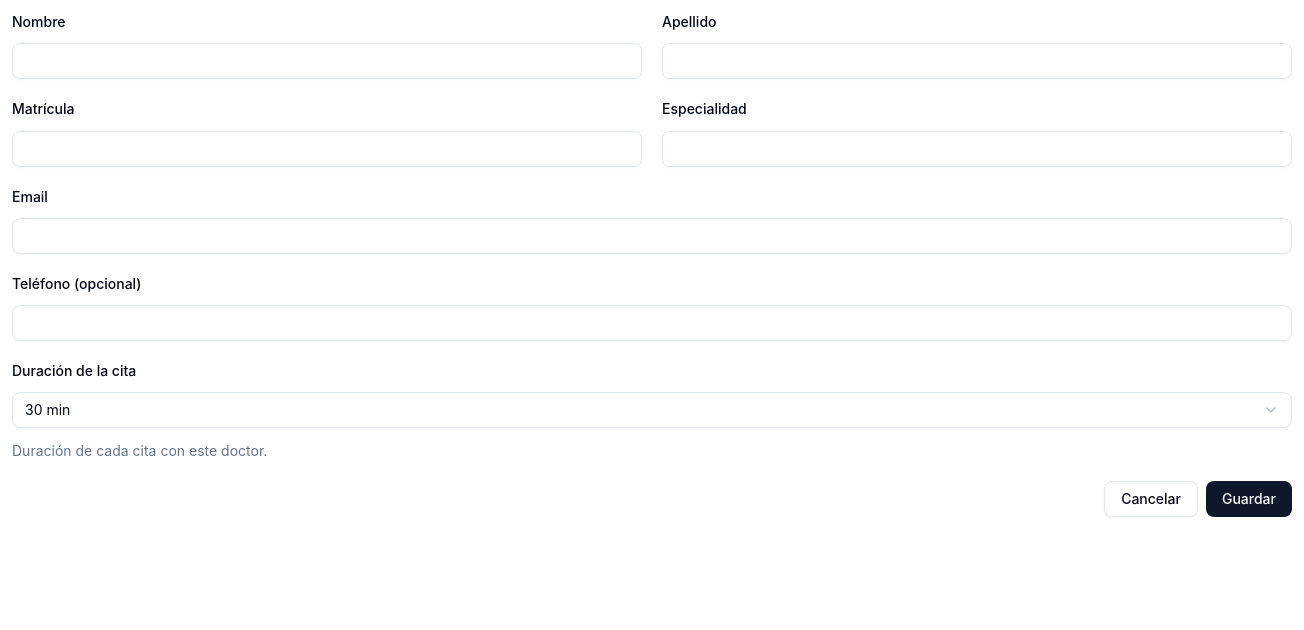
Test case: DoctorForm › shows the required messages and does not submit an empty form
Click the button "Guardar" at [1249, 499], box 1206,481 -> 1292,517
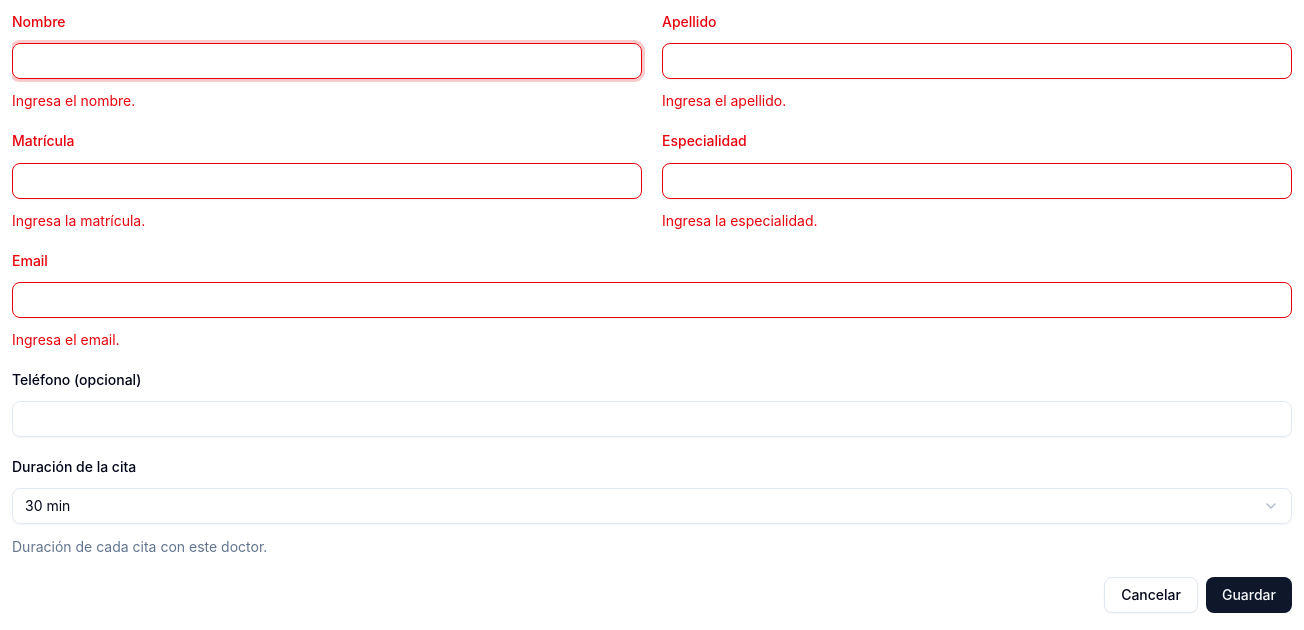
Check: the text "Ingresa el nombre." is shown, box 12,92 -> 135,109
Check: the text "Ingresa el apellido." is shown, box 662,92 -> 786,109
Check: the text "Ingresa la matrícula." is shown, box 12,212 -> 145,228
